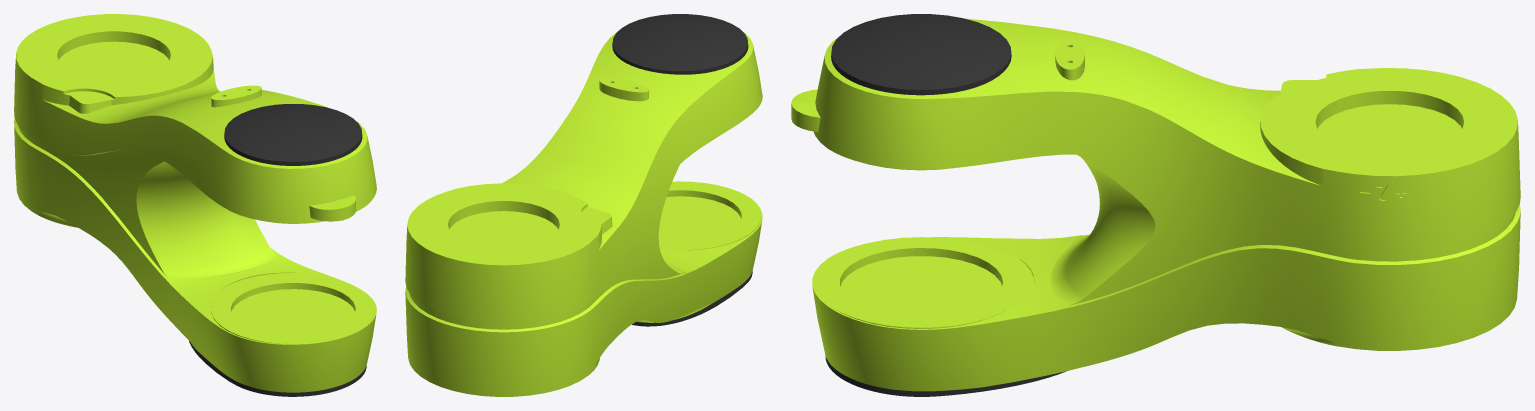
File: kuka_3.obj
3 views of the same model, side by side, from view 1: azimuth 30°, elevation 25°; view 2: azimuth 150°, elevation 25°; view 3: azimuth 270°, elevation 25° (orthographic). The views are drawn at different scales.
Parts seen in each view (by area): view 1: 实体1; view 2: 实体1; view 3: 实体1.
Boxes of the visible parts, bbox=[...] form: 实体1: bbox=[14, 14, 376, 396]; 实体1: bbox=[405, 14, 762, 396]; 实体1: bbox=[791, 14, 1520, 396].
Bounding box in the file's own units: 176 × 249 × 490.
